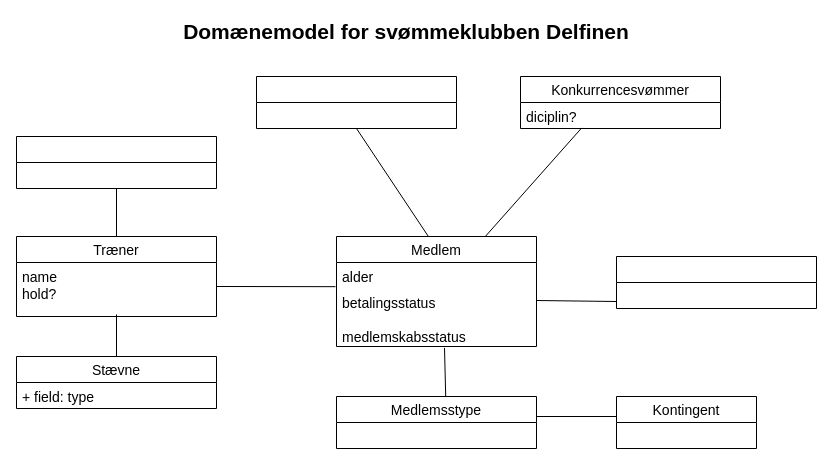
This 833x465 diagram has some shape labels left out. Each missing label, with the centre of its shape:
"Motionssvømmer" goes at point (356, 102).
"Resistance" goes at point (716, 282).
"Træning" goes at point (116, 162).
